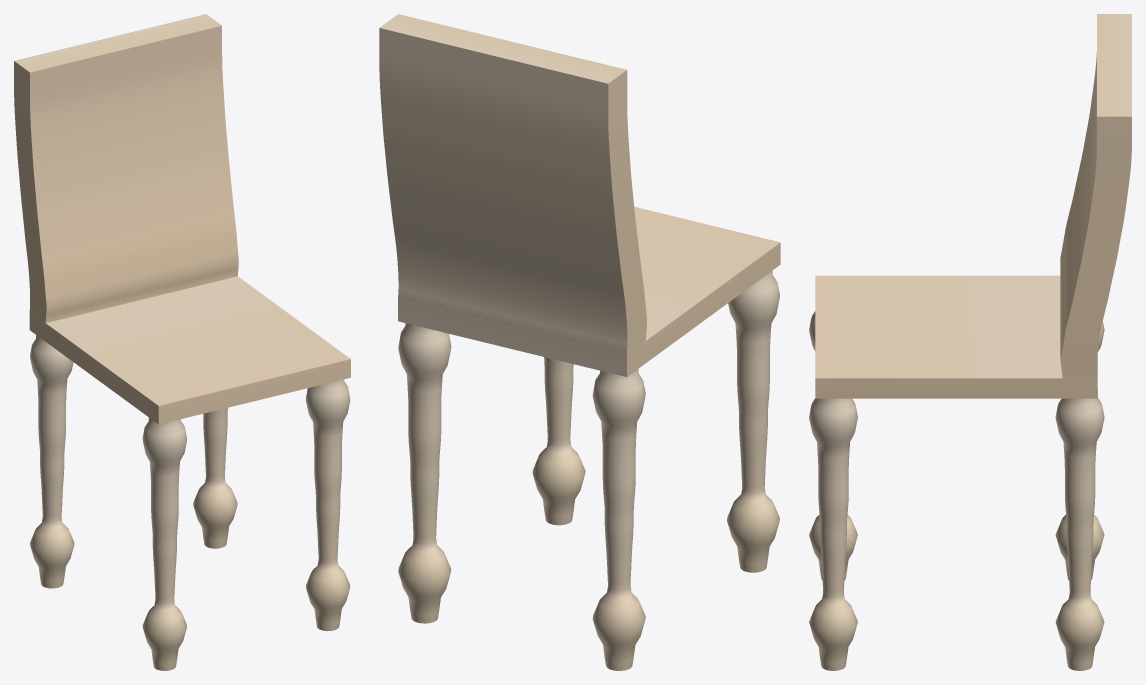
The model's file is chair.fbx.
3 renders of one model, left to right at view 1: azimuth 30°, elevation 25°; view 2: azimuth 150°, elevation 25°; view 3: azimuth 270°, elevation 25°, orthographic. The views are drawn at different scales.
Parts seen in each view (by area): view 1: pCylinder5; view 2: pCylinder5; view 3: pCylinder5.
Boxes of the visible parts, <box> form: pCylinder5: <box>14,14,350,670</box>; pCylinder5: <box>379,14,780,670</box>; pCylinder5: <box>809,14,1131,670</box>.
Bounding box in the file's own units: 1.33 × 3.21 × 1.68.
Materials: 1 (1 with a texture image).
